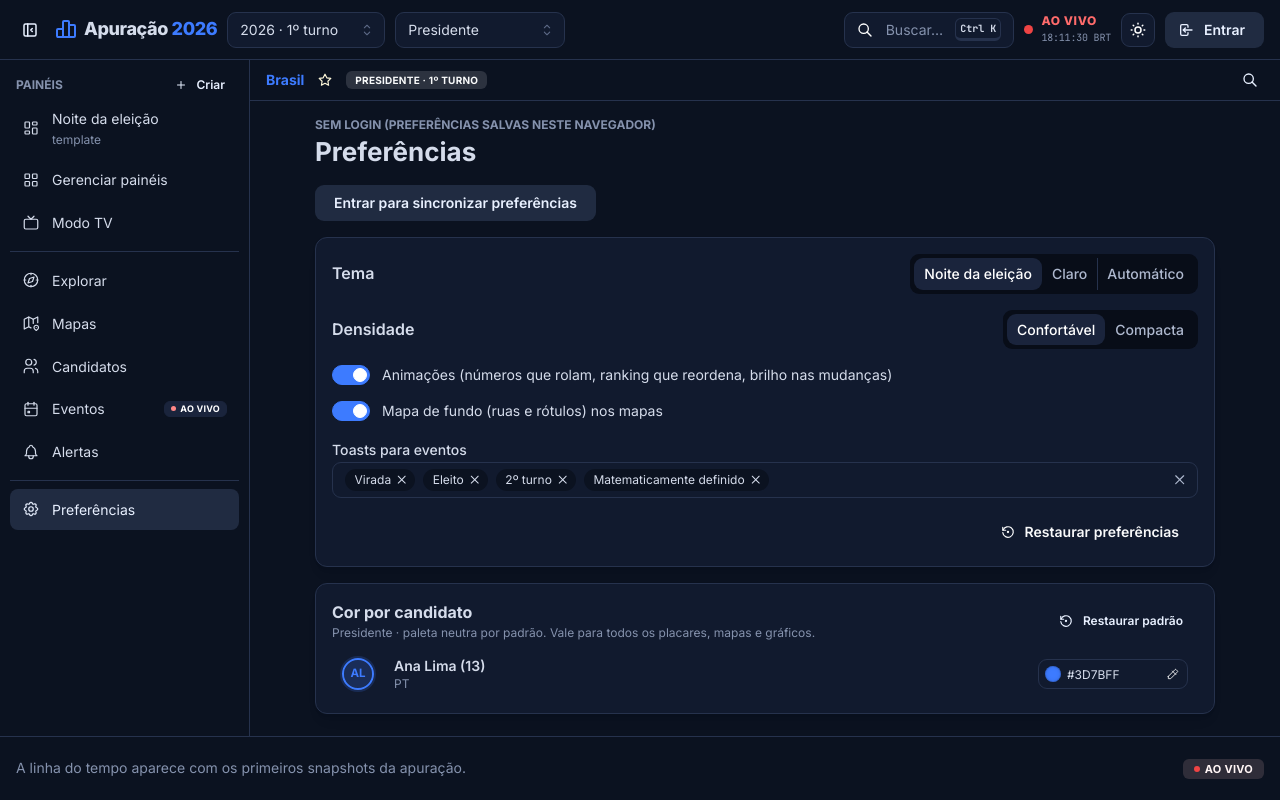
it: shell navbar › opens the new dashboard modal from the Criar button
Step 1. Click the button "Criar" → (201,85), box x1=169 y1=74 x2=233 y2=96
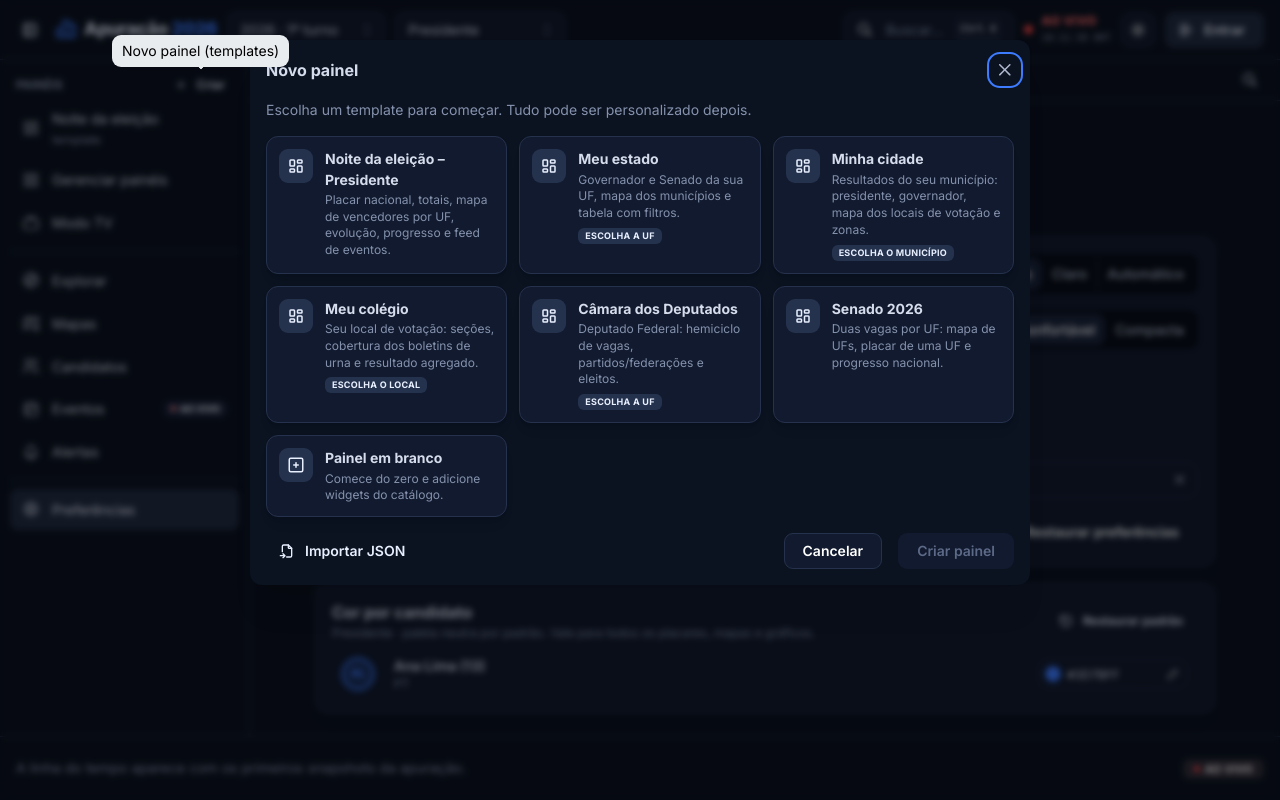
Check: the dialog is shown, box x1=250 y1=40 x2=1030 y2=585
